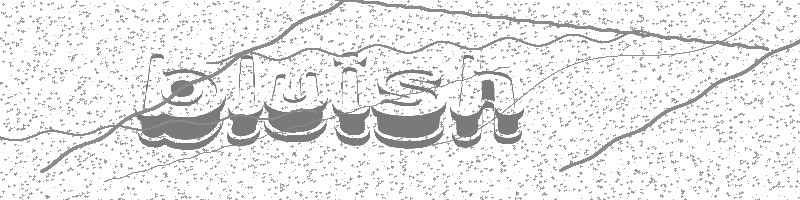b: (130, 48, 227, 152)
h: (449, 49, 526, 148)
i: (329, 48, 373, 148)
l: (225, 53, 264, 148)
s: (372, 65, 446, 152)
u: (263, 68, 330, 144)
